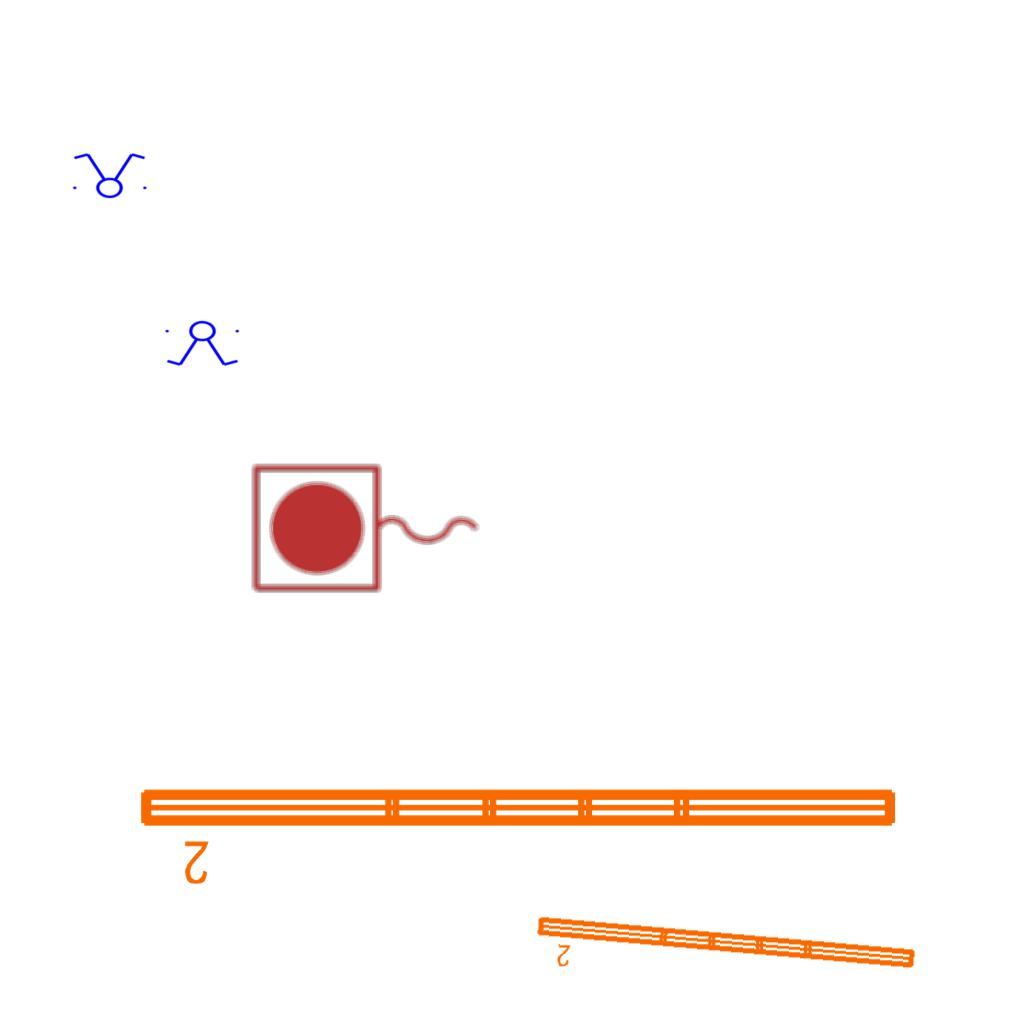Ambulanz_Pendelleuchte_LED: (132, 777, 906, 889), (530, 910, 921, 1000)
Serienschalter: (67, 151, 151, 199), (161, 320, 245, 368)
Zugtaster: (245, 458, 489, 602)
